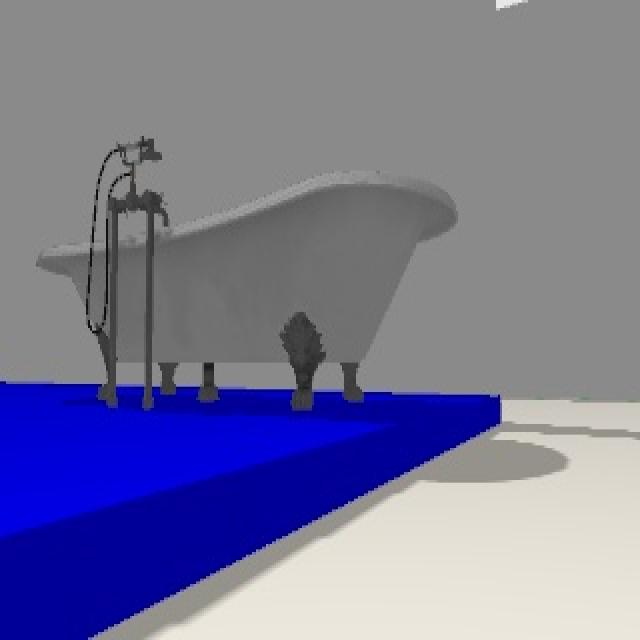bathtub: (32, 137, 466, 416)
